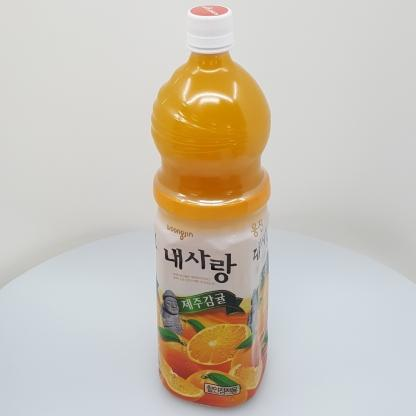----------1-5L: (150, 5, 272, 409)
